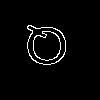Q: (25, 24, 69, 73)
